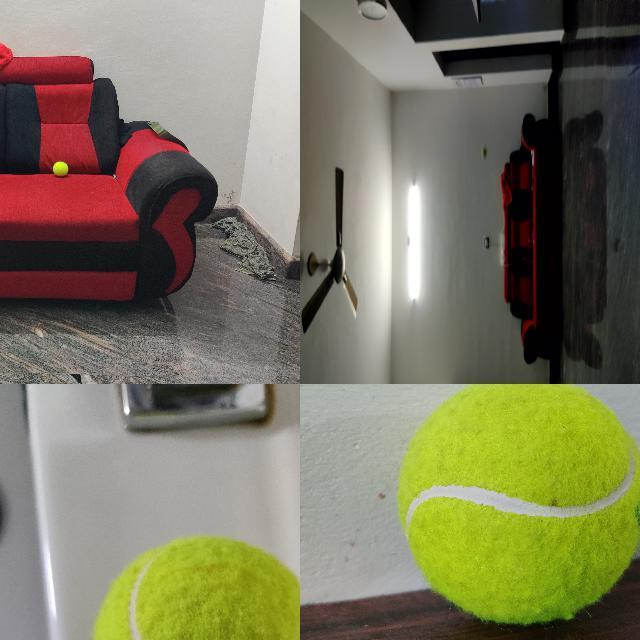tennis-ball: (397, 384, 639, 626), (87, 533, 299, 639), (52, 162, 68, 177), (482, 146, 487, 158)
